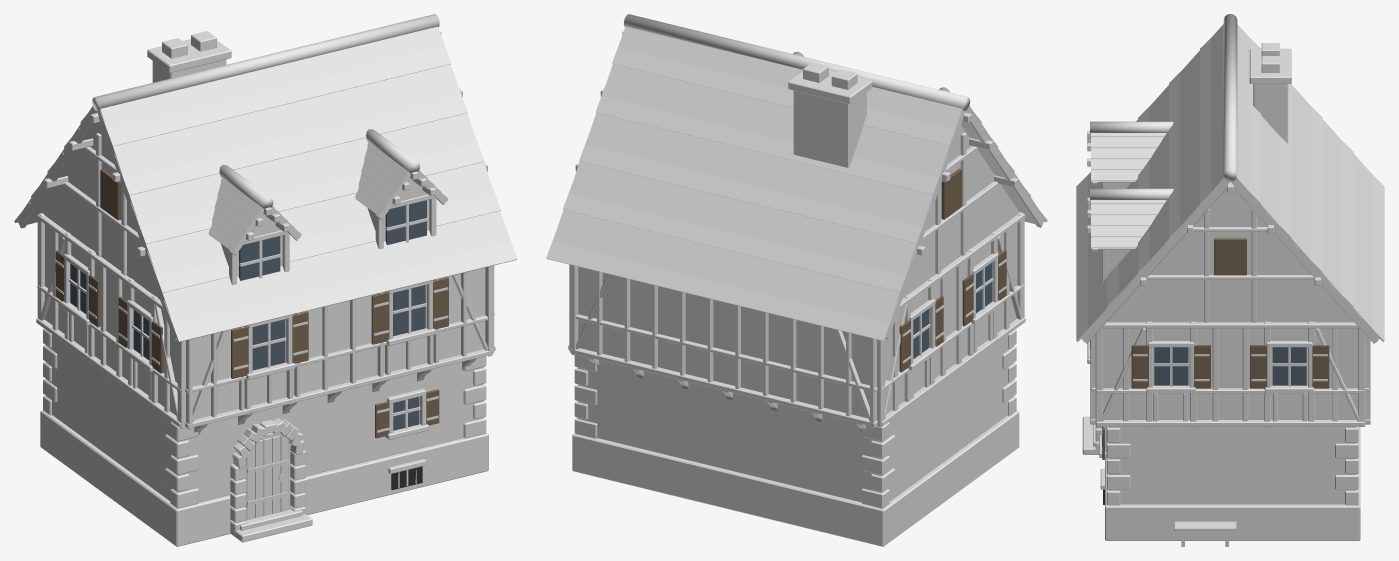
The model's file is ville_21_gouttereau_lucarnes.fbx.
The picture shows the model from 3 angles, left to right: view 1: azimuth 30°, elevation 25°; view 2: azimuth 150°, elevation 25°; view 3: azimuth 270°, elevation 25°; orthographic projection. The views are drawn at different scales.
Visible parts, largest first — view 1: ville_21_gouttereau_lucarnes_LOD0; view 2: ville_21_gouttereau_lucarnes_LOD0; view 3: ville_21_gouttereau_lucarnes_LOD0.
Boxes of the visible parts, left/top/right/bottom form: ville_21_gouttereau_lucarnes_LOD0: left=14, top=14, right=517, bottom=546; ville_21_gouttereau_lucarnes_LOD0: left=546, top=14, right=1047, bottom=546; ville_21_gouttereau_lucarnes_LOD0: left=1076, top=14, right=1384, bottom=546.
Size of what is drawn, in the model's own units: 8.2 by 9.42 by 6.73.
